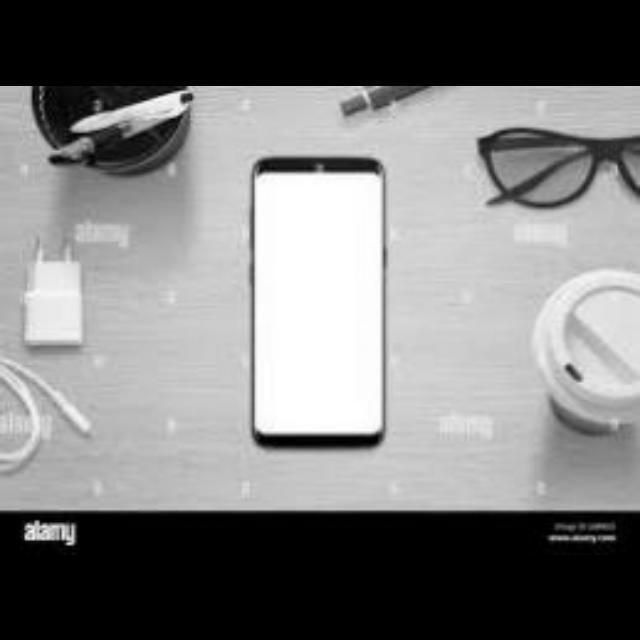fake: (248, 156, 386, 447)
